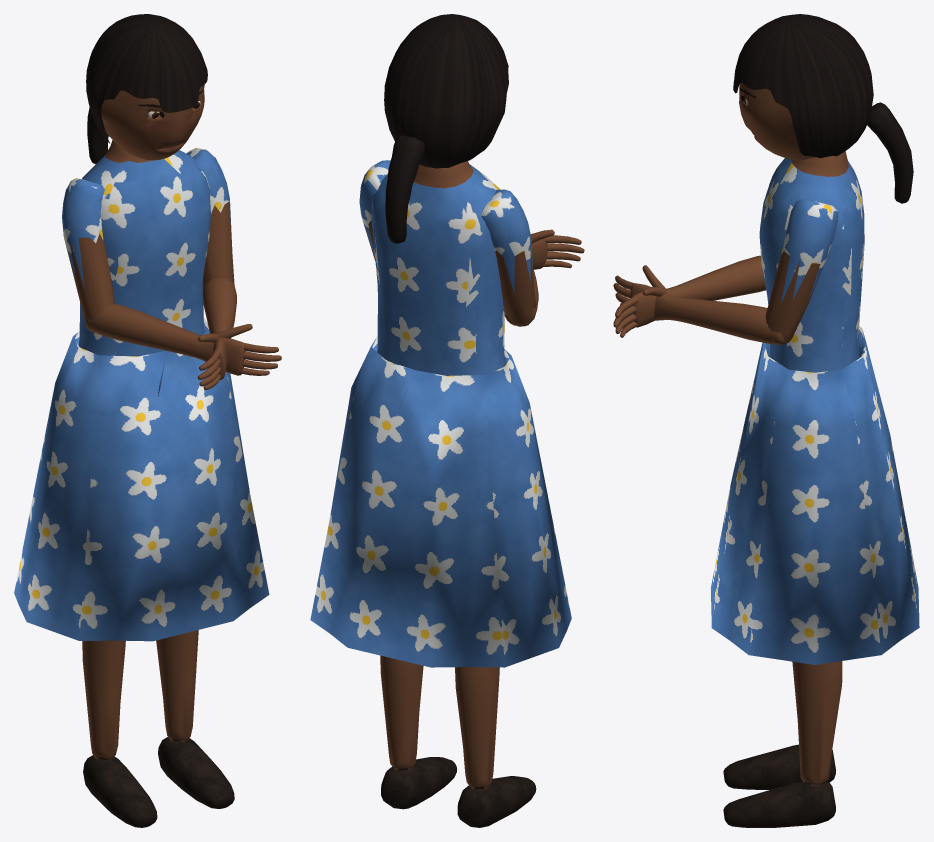
File: persona_nina_b_medio.obj
3 renders of one model, left to right at view 1: azimuth 30°, elevation 25°; view 2: azimuth 150°, elevation 25°; view 3: azimuth 270°, elevation 25°, orthographic. The views are drawn at different scales.
Visible parts, largest first — view 1: Falda, Torso, Pelo, PiernaDer, PiernaIzq, AntebrazoDer, BrazoDer, Cabeza, BrazoIzq, AntebrazoIzq; view 2: Falda, Torso, Pelo, PiernaDer, PiernaIzq, BrazoDer, AntebrazoIzq, BrazoIzq; view 3: Falda, Pelo, Torso, PiernaIzq, BrazoIzq, AntebrazoIzq, AntebrazoDer, Cabeza, PiernaDer.
Part boxes in pixels (<box>): Falda: <box>14,317,269,641</box>; Torso: <box>78,140,210,356</box>; Pelo: <box>86,14,207,164</box>; PiernaDer: <box>82,640,157,827</box>; PiernaIzq: <box>156,630,234,808</box>; AntebrazoDer: <box>85,303,281,375</box>; BrazoDer: <box>62,178,114,330</box>; Cabeza: <box>101,85,204,160</box>; BrazoIzq: <box>186,148,234,288</box>; AntebrazoIzq: <box>197,278,236,389</box>; Falda: <box>310,336,571,667</box>; Torso: <box>371,161,505,375</box>; Pelo: <box>384,14,508,243</box>; PiernaDer: <box>455,667,536,827</box>; PiernaIzq: <box>380,655,456,809</box>; BrazoDer: <box>481,189,535,325</box>; AntebrazoIzq: <box>530,229,584,269</box>; BrazoIzq: <box>359,160,390,260</box>; Falda: <box>710,326,919,664</box>; Pelo: <box>733,14,913,203</box>; Torso: <box>759,151,864,372</box>; PiernaIzq: <box>723,661,842,827</box>; BrazoIzq: <box>765,199,838,342</box>; AntebrazoIzq: <box>613,265,791,345</box>; AntebrazoDer: <box>613,255,765,337</box>; Cabeza: <box>739,83,815,160</box>; PiernaDer: <box>723,744,835,789</box>.
Size of the model in its own units: 0.3569 by 1.15 by 0.4043.
Materials: 10 (10 with a texture image).
